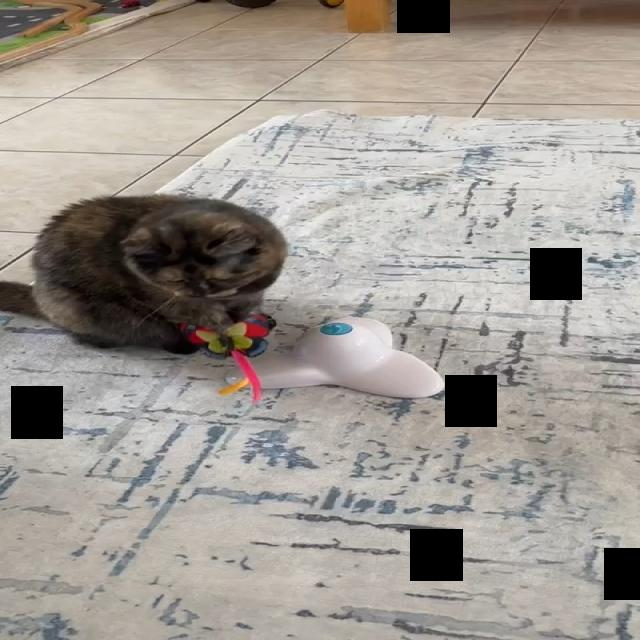authorized: (0, 192, 288, 355)
